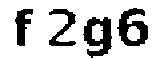2: (44, 5, 79, 52)
6: (117, 4, 149, 50)
f: (11, 6, 38, 50)
g: (82, 15, 116, 60)
